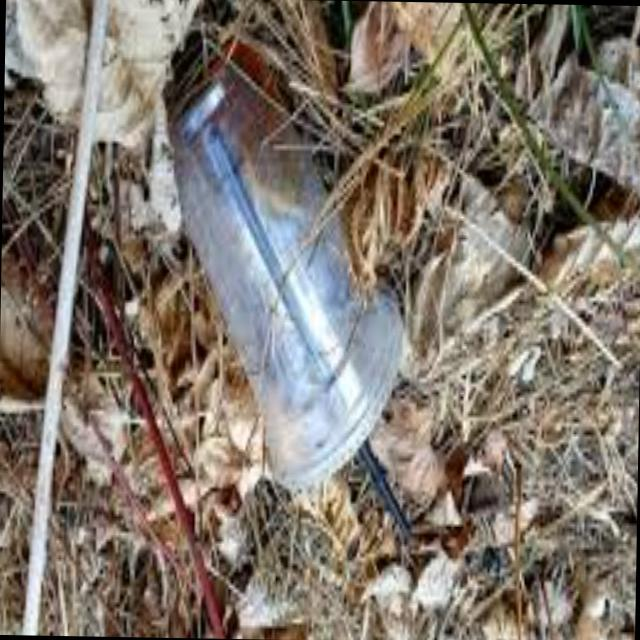GelasPlastik: (154, 26, 412, 496)
